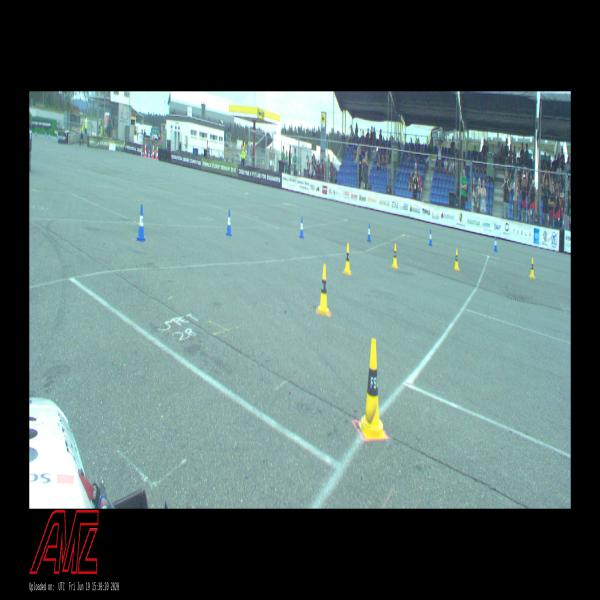blue_cone: (136, 205, 146, 241), (226, 210, 232, 235), (299, 218, 304, 238), (367, 224, 371, 242), (429, 229, 432, 246), (494, 237, 497, 252)
yellow_cone: (359, 339, 386, 438), (318, 264, 329, 316), (344, 243, 351, 275), (392, 244, 398, 268), (454, 249, 459, 270), (530, 258, 534, 278)
